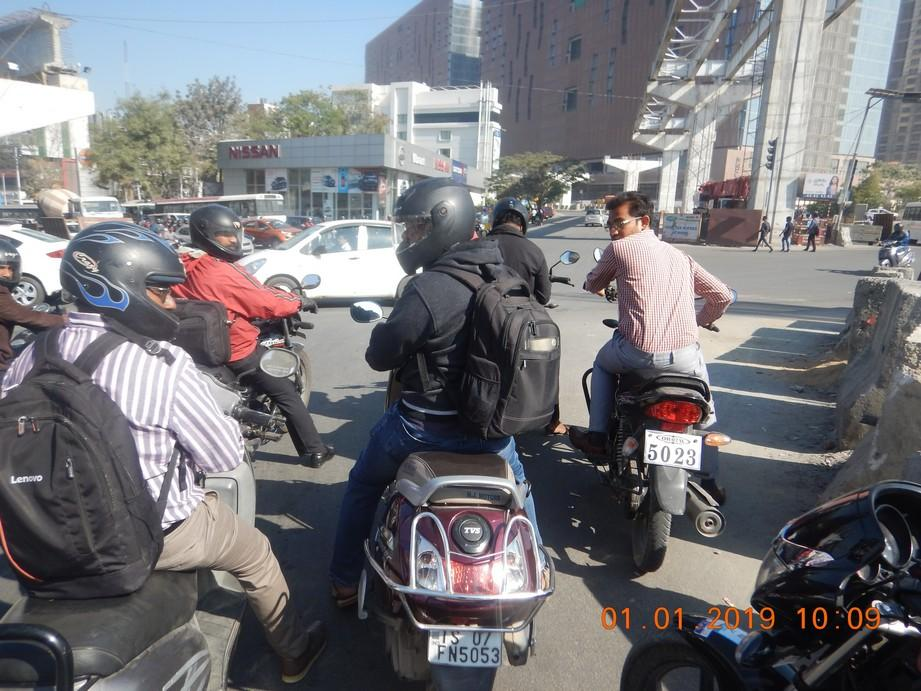plate: (425, 625, 507, 669), (643, 429, 703, 473)
